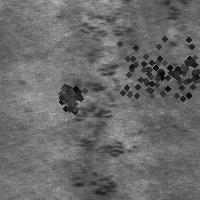rolled-in_scale: (63, 42, 136, 152), (104, 30, 192, 118), (149, 30, 200, 110), (77, 2, 134, 63), (71, 136, 126, 199), (45, 74, 89, 118), (161, 1, 197, 51)
